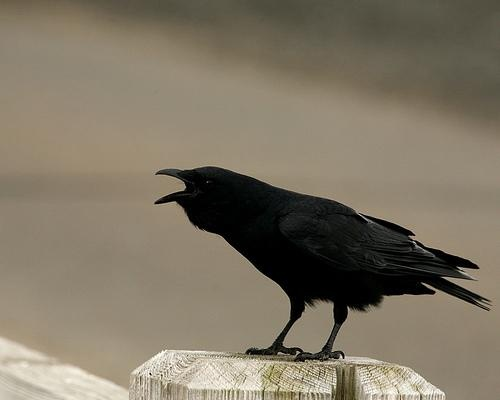bird: (153, 167, 492, 358)
